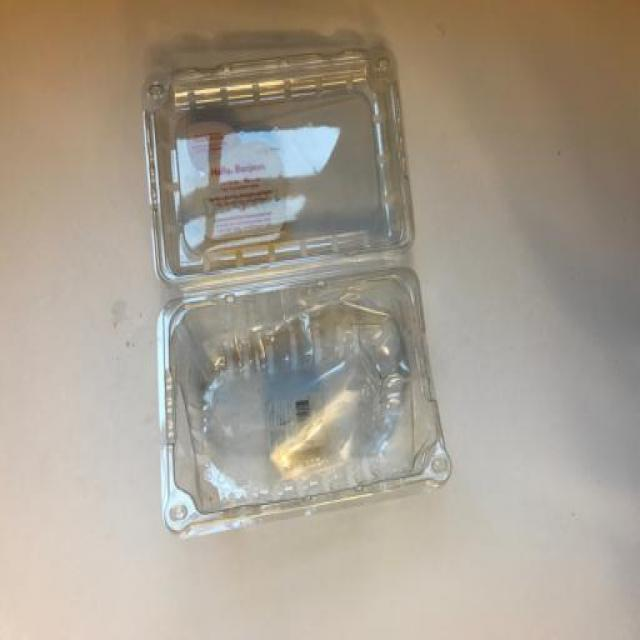Plastic: (139, 46, 453, 544)
